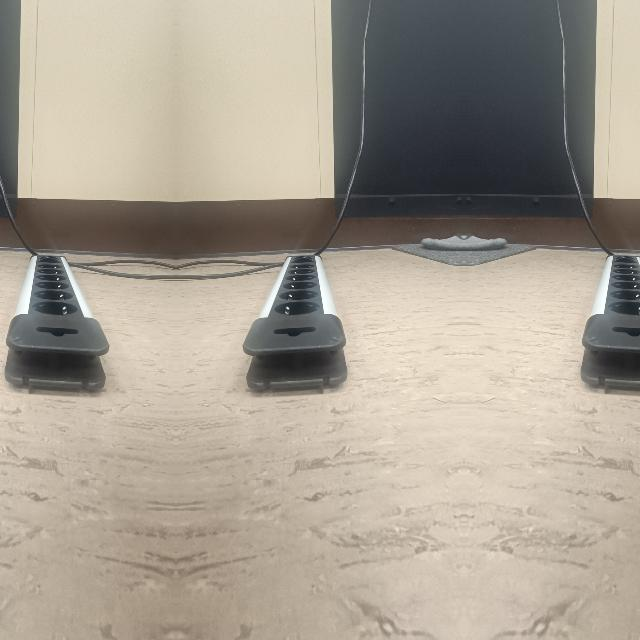obstacle: (242, 254, 351, 388), (0, 254, 108, 388), (576, 254, 640, 388)
